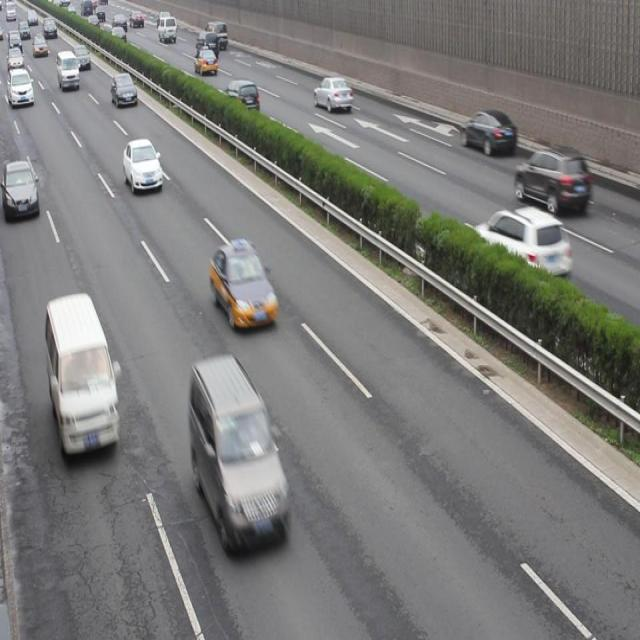car: (474, 206, 570, 283), (210, 238, 277, 326), (514, 152, 590, 210), (458, 111, 514, 152), (1, 160, 39, 218), (124, 135, 161, 191), (221, 77, 259, 115), (313, 74, 350, 112), (1, 68, 34, 107), (111, 72, 138, 107), (195, 50, 218, 76), (1, 46, 24, 70), (75, 46, 90, 69), (34, 33, 48, 57), (110, 26, 126, 44)
truck: (191, 358, 290, 553), (48, 290, 119, 455), (58, 49, 79, 88), (196, 32, 218, 60), (205, 23, 228, 46), (158, 16, 176, 42)
